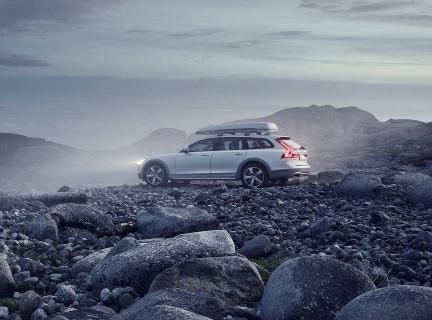沃尔沃-V90: (132, 119, 319, 195)
